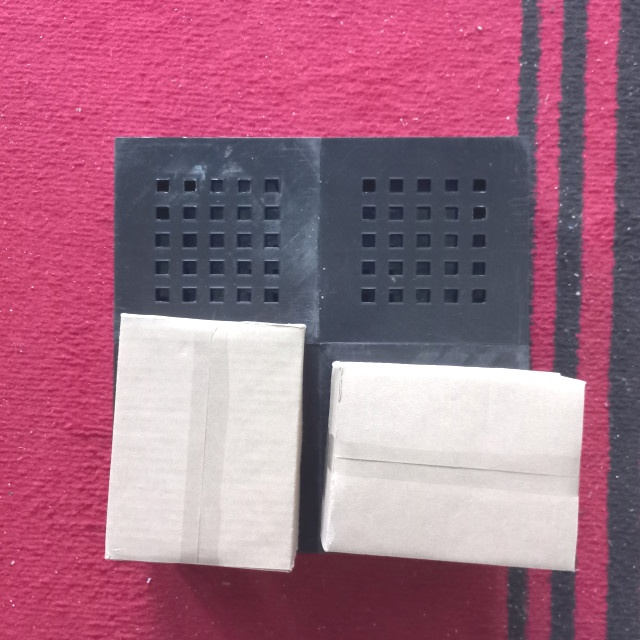box: (318, 355, 587, 575), (101, 312, 306, 575)
